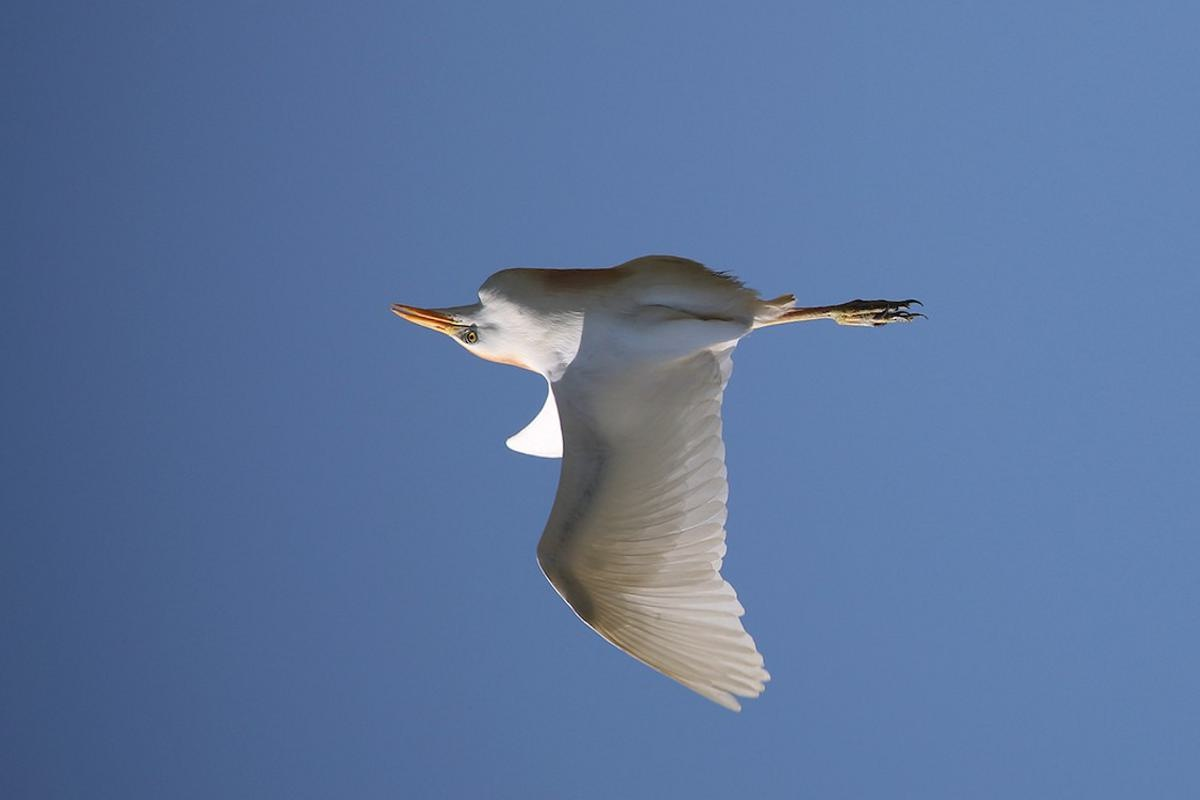egret: (363, 220, 1003, 717)
